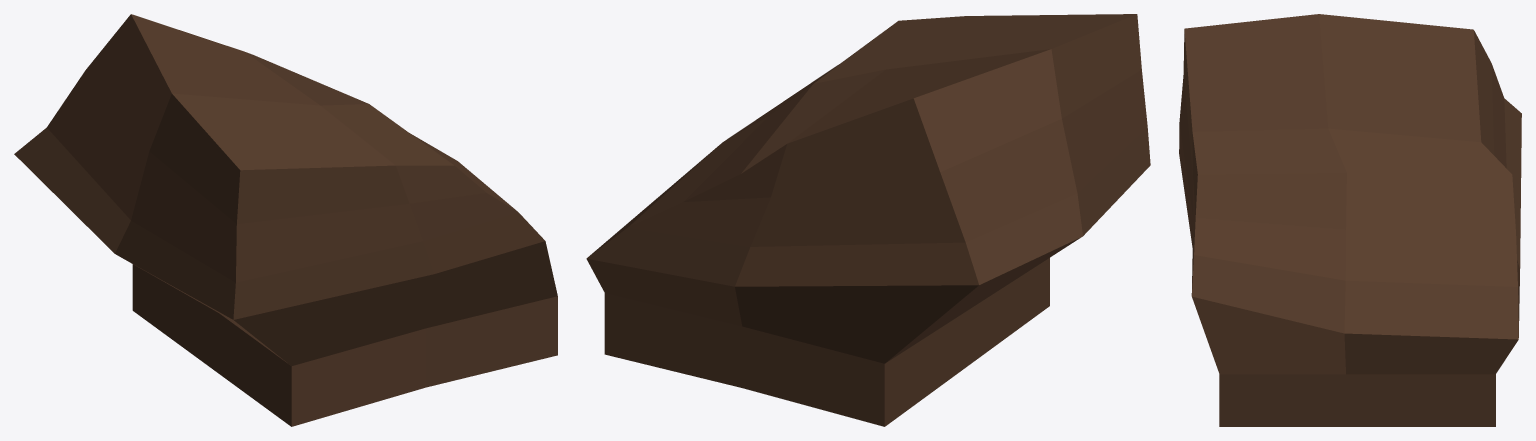
File: JAm2_rock.fbx
The picture shows the model from 3 angles, left to right: view 1: azimuth 30°, elevation 25°; view 2: azimuth 150°, elevation 25°; view 3: azimuth 270°, elevation 25°; orthographic projection. The views are drawn at different scales.
Parts seen in each view (by area): view 1: rock; view 2: rock; view 3: rock.
Boxes of the visible parts, x1,y1,x2,y2 form: rock: [14, 14, 557, 426]; rock: [586, 14, 1150, 426]; rock: [1179, 14, 1521, 426].
Bounding box in the file's own units: 2806 × 2182 × 2451.
